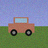vehicle: (8, 17, 34, 36)
